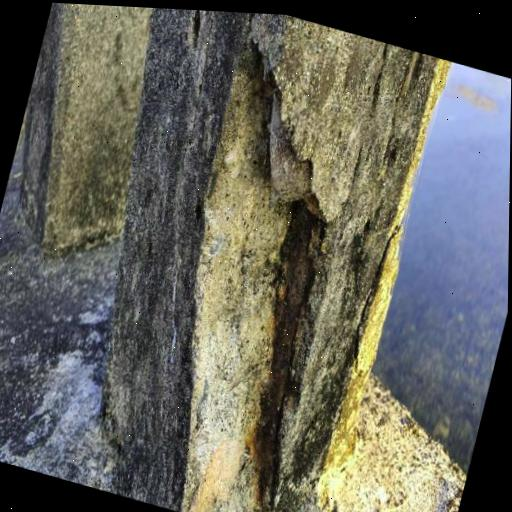exposed_rebar: (252, 201, 316, 504)
spalling: (182, 39, 329, 512)
